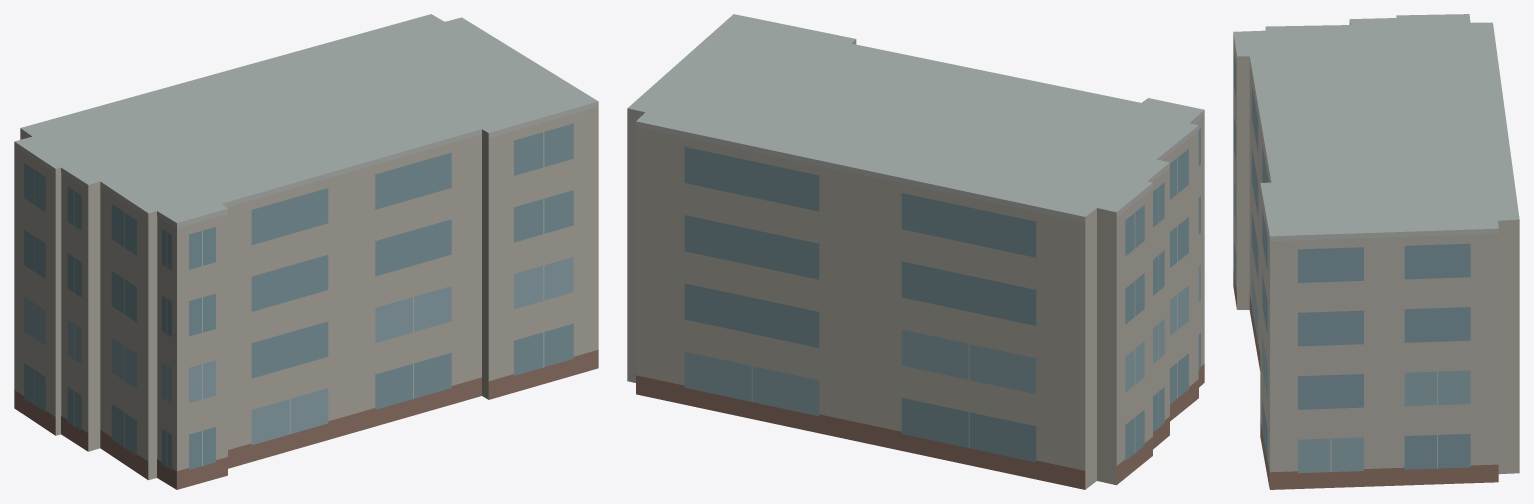
File: survey-upis-32674988.glb
The picture shows the model from 3 angles, left to right: view 1: azimuth 30°, elevation 25°; view 2: azimuth 150°, elevation 25°; view 3: azimuth 270°, elevation 25°; orthographic projection. The views are drawn at different scales.
Parts seen in each view (by area): view 1: survey-upis-32674988.tmp; view 2: survey-upis-32674988.tmp; view 3: survey-upis-32674988.tmp.
Boxes of the visible parts, x1=… form: survey-upis-32674988.tmp: x1=14, y1=14, x2=598, y2=489; survey-upis-32674988.tmp: x1=627, y1=14, x2=1204, y2=489; survey-upis-32674988.tmp: x1=1233, y1=14, x2=1519, y2=489.
Bounding box in the file's own units: 23.32 × 12.4 × 12.7.
